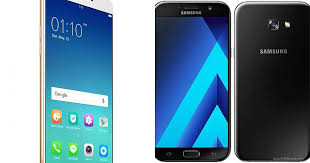bphone: (36, 1, 119, 163)
samsung: (232, 1, 310, 162)
